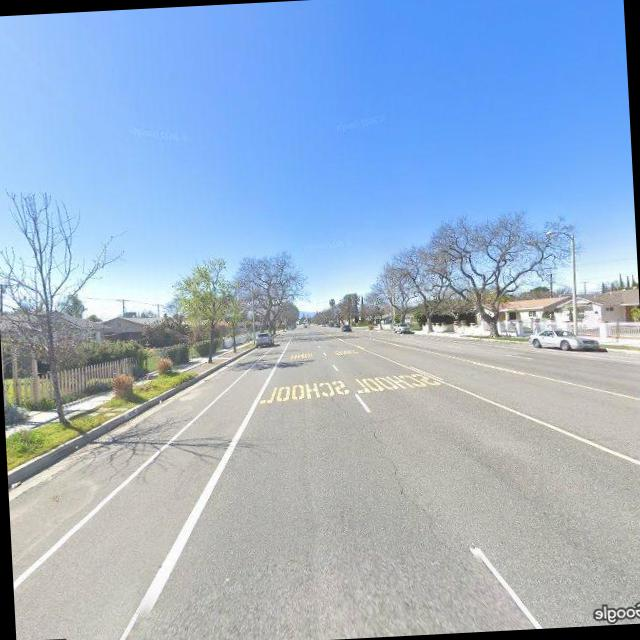crack: (350, 394, 470, 560)
